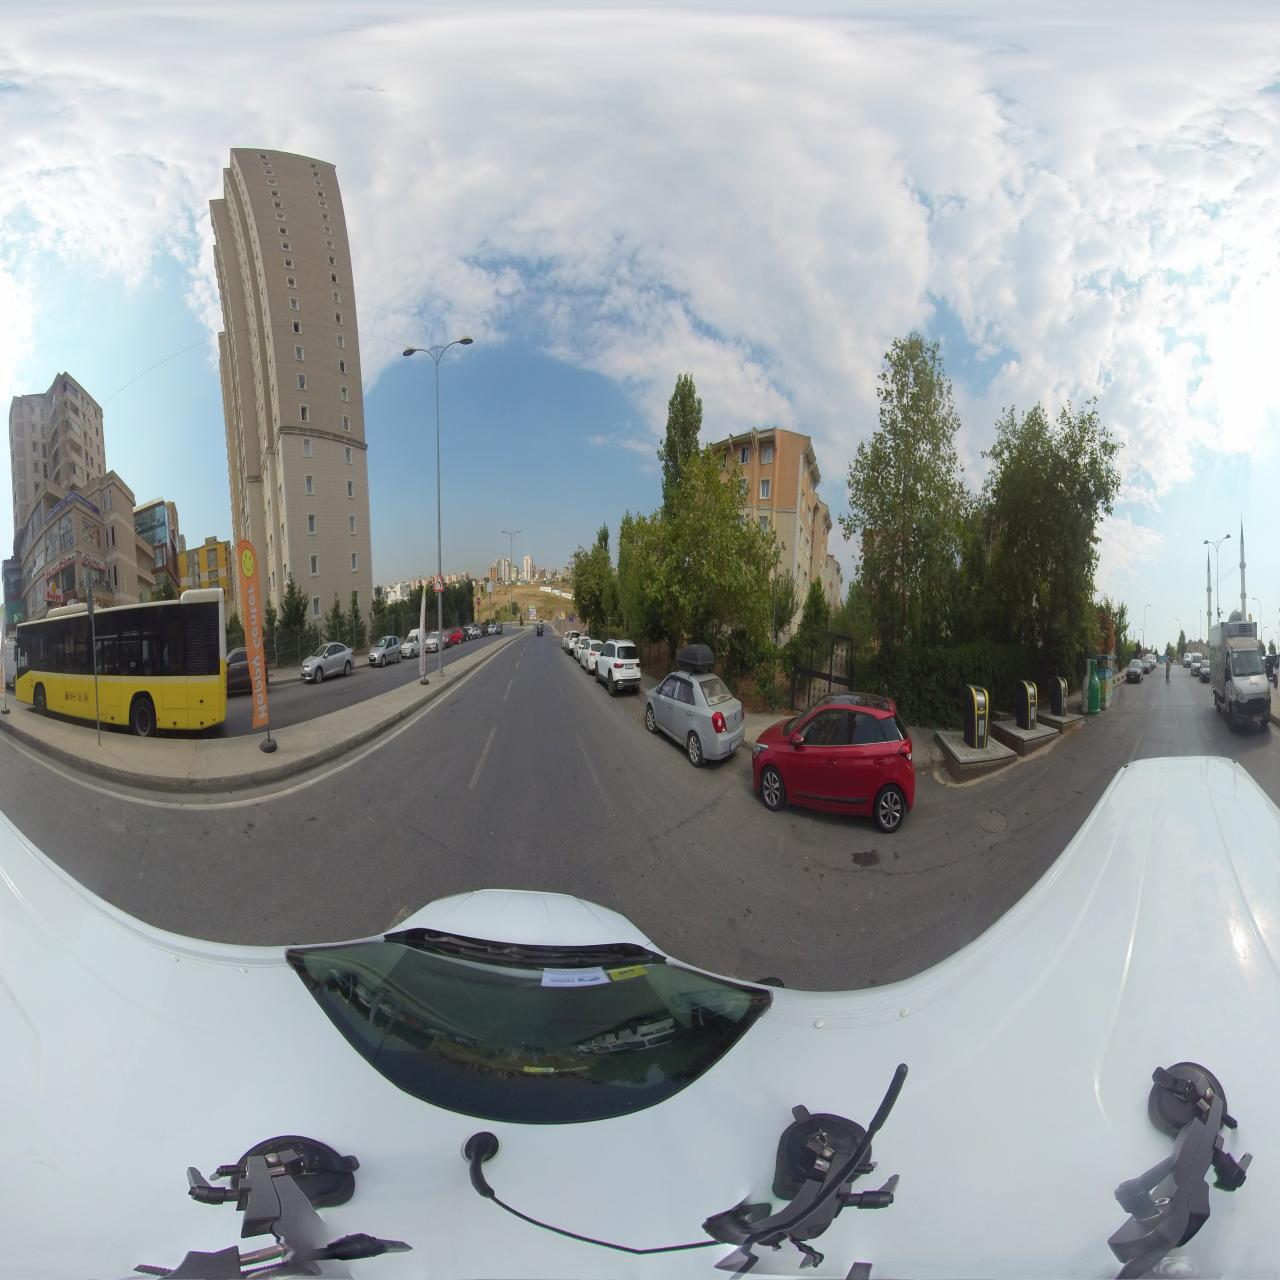SignStore: (45, 552, 76, 581), (43, 581, 62, 604), (4, 554, 21, 573)
